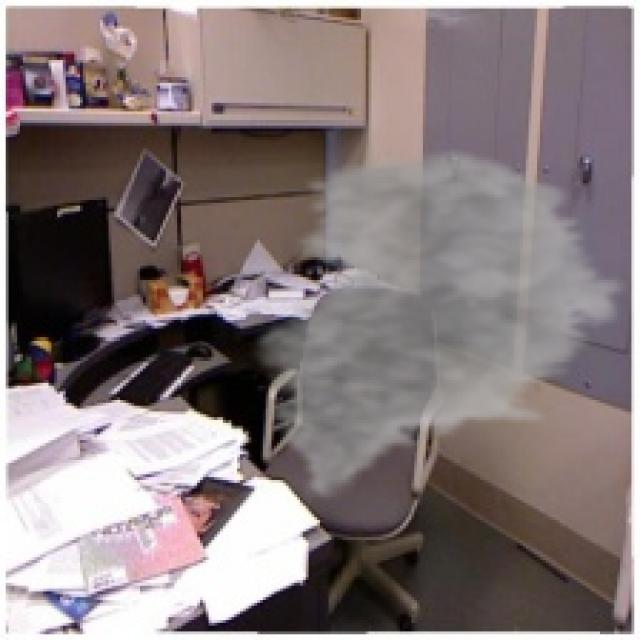smoke: (243, 146, 634, 503)
